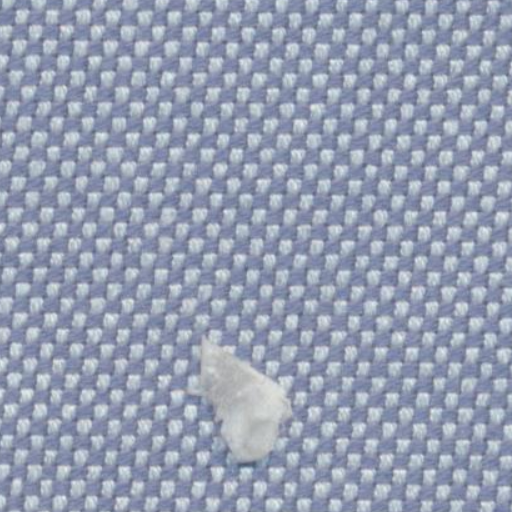MianQiu: (160, 310, 325, 480)
